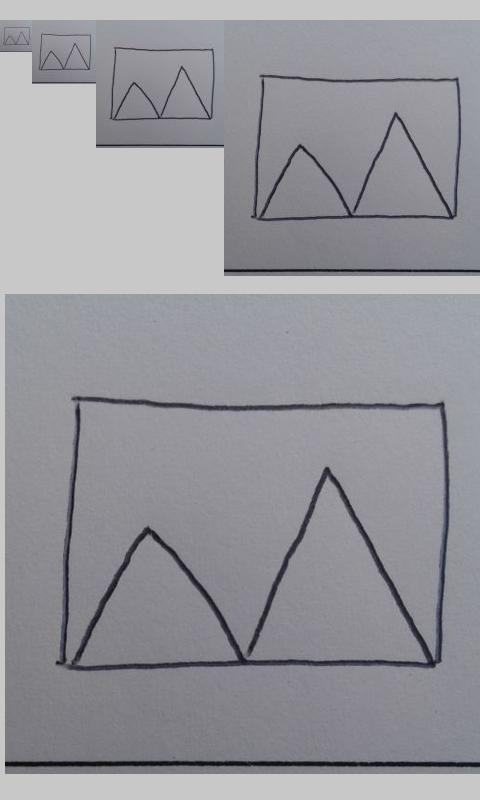image_view: (62, 391, 456, 675), (251, 68, 464, 228), (110, 46, 215, 121), (39, 33, 93, 72), (3, 26, 31, 46)
